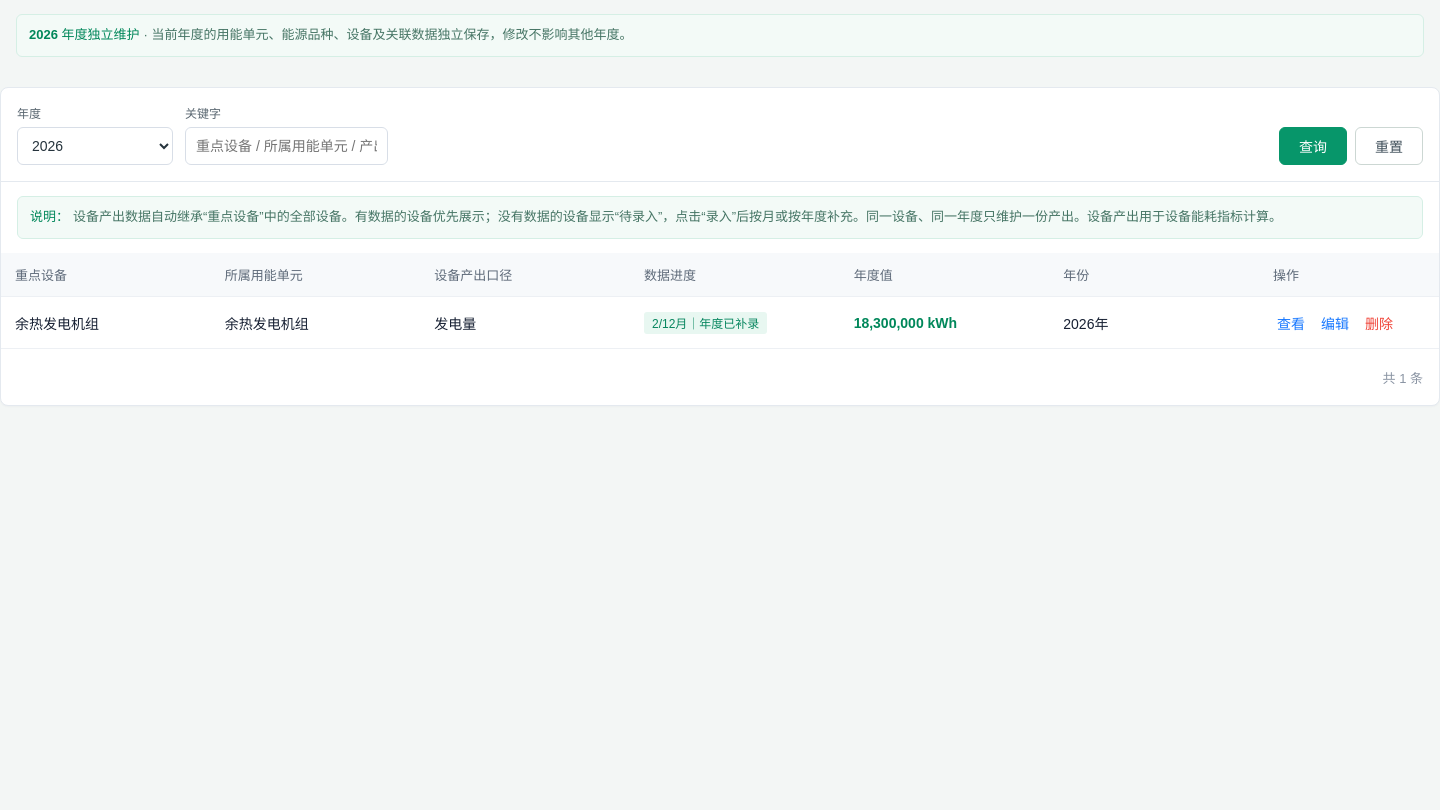
annual ledgers and shared monthly details › keeps missing device months distinct from explicit zero and edits all months without repeated edit buttons
The image size is (1440, 810).
Step 1. Click the button "查看" → (1291, 323), box left=1273, top=311, right=1309, bottom=335
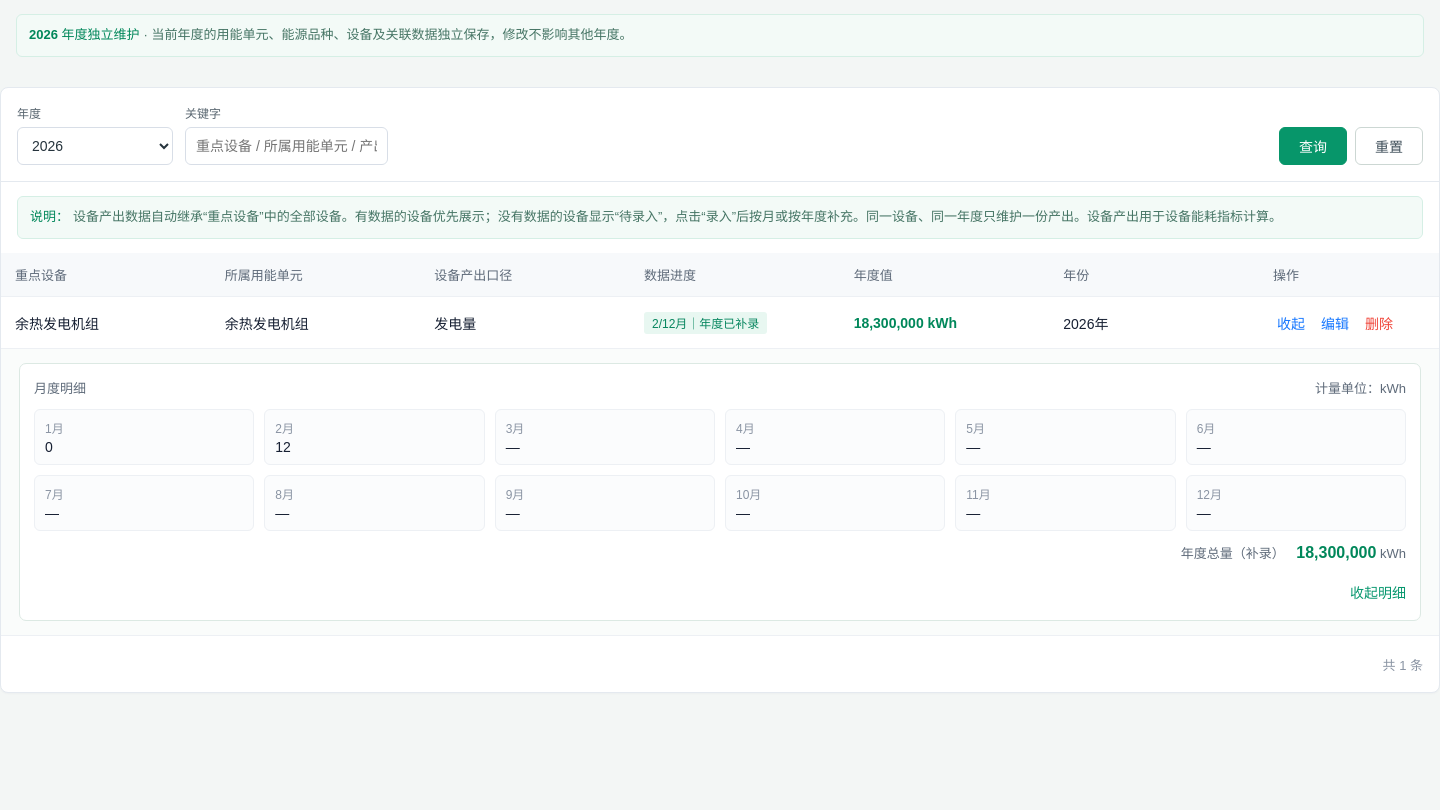
Step 2. Click the button "编辑" → (1335, 323), box left=1317, top=311, right=1353, bottom=335
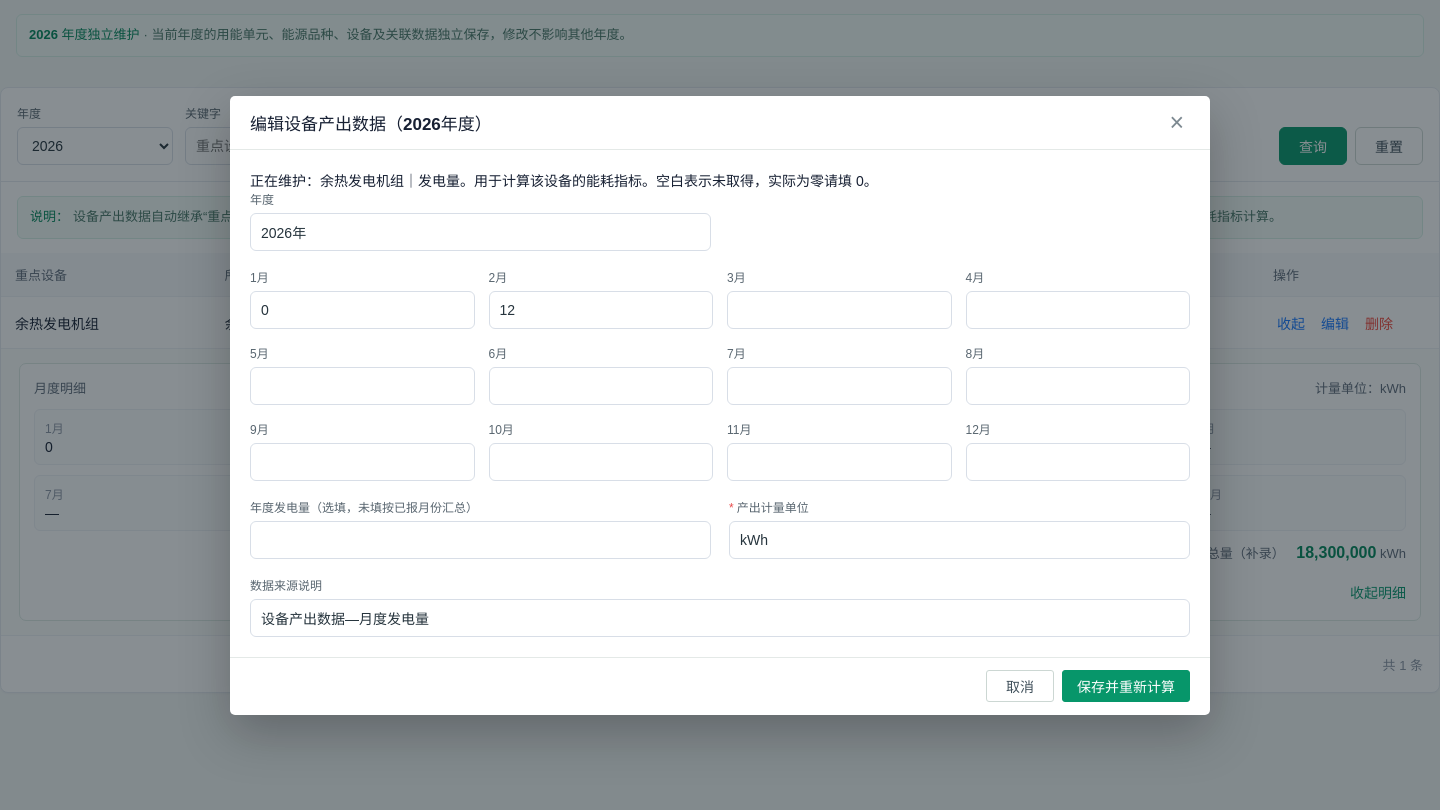
Expected: the dialog is shown, left=230, top=96, right=1210, bottom=714
Expected: the number field labelled "1月" holds "0", left=250, top=290, right=474, bottom=328
Expected: the number field labelled "3月" is empty, left=727, top=290, right=952, bottom=328
